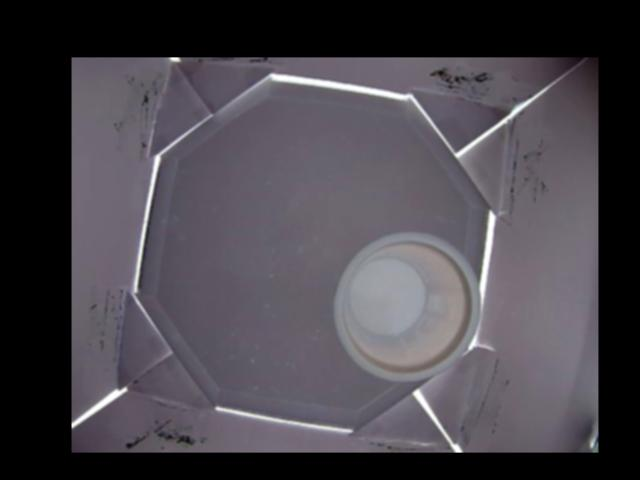Cup: (331, 231, 481, 380)
